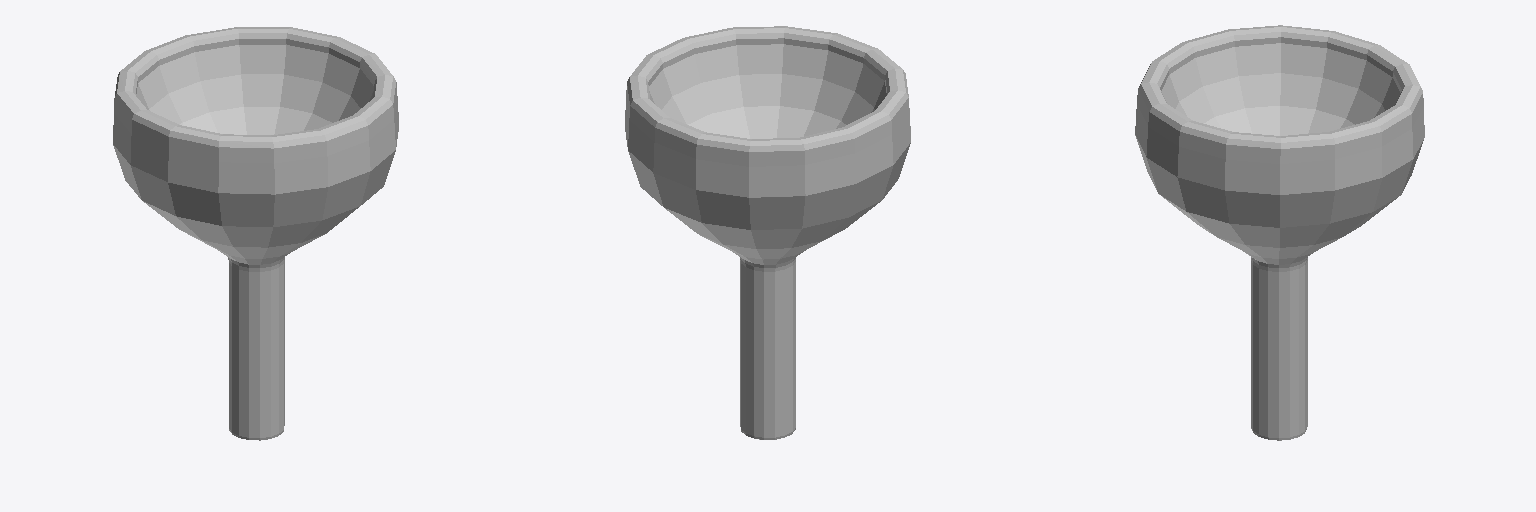
The model's file is funnel.obj.
3 views of the same model, side by side, from view 1: azimuth 30°, elevation 25°; view 2: azimuth 150°, elevation 25°; view 3: azimuth 270°, elevation 25° (orthographic).
Parts seen in each view (by area): view 1: Cylinder; view 2: Cylinder; view 3: Cylinder.
Boxes of the visible parts, x1,y1,x2,y2 form: Cylinder: [113, 27, 398, 440]; Cylinder: [625, 26, 910, 439]; Cylinder: [1135, 25, 1424, 440].
Size of the model in its own units: 1.52 by 2.01 by 1.52.